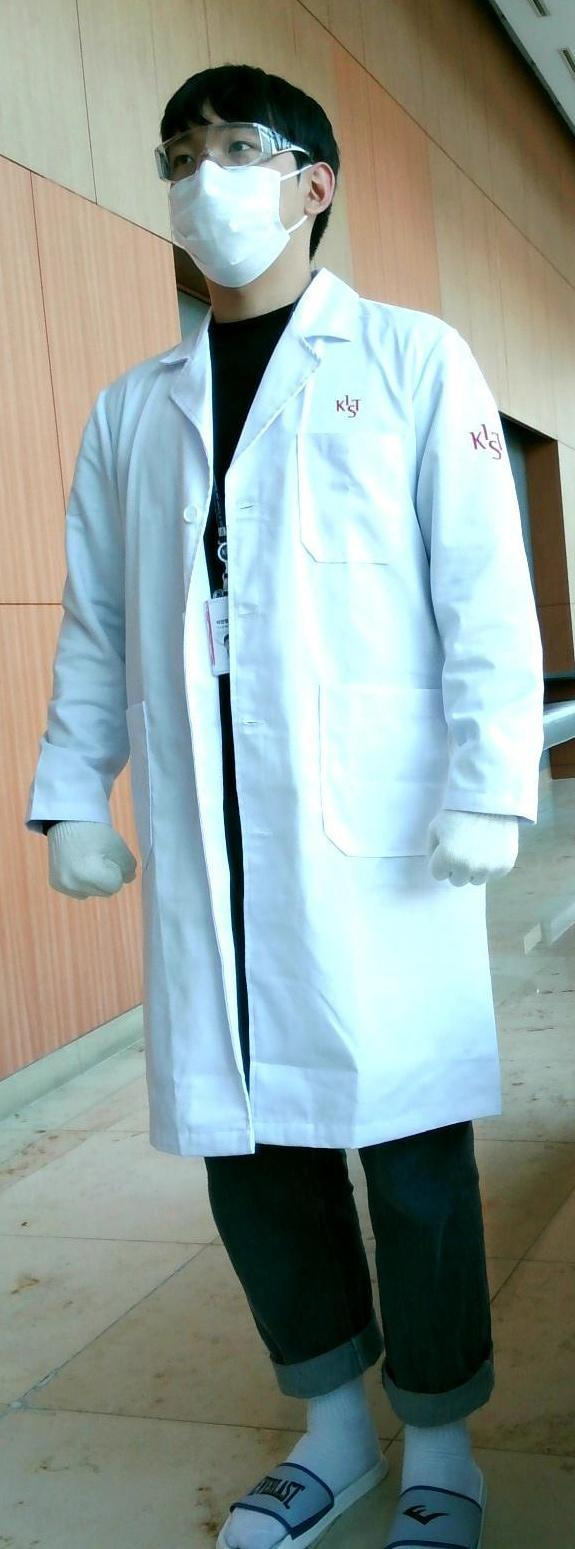lab_coat: (125, 297, 441, 1161)
